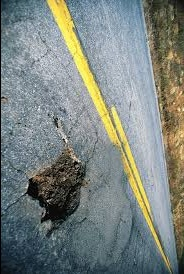pothole: (21, 151, 97, 232)
